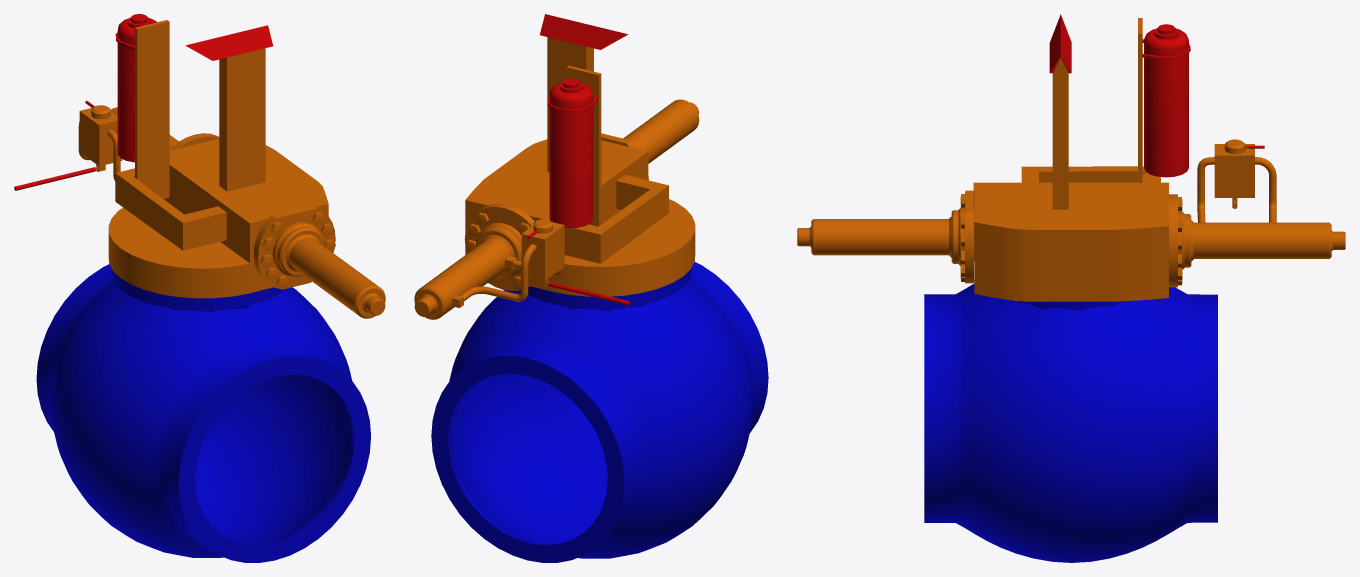
The model's file is Small_Final_V2.fbx.
The picture shows the model from 3 angles, left to right: view 1: azimuth 30°, elevation 25°; view 2: azimuth 150°, elevation 25°; view 3: azimuth 270°, elevation 25°; orthographic projection. The views are drawn at different scales.
Visible parts, largest first — view 1: Pushka.002, Cube.003; view 2: Pushka.002, Cube.003; view 3: Pushka.002.
Boxes of the visible parts, box(x1,y1,x2,y2) form: Pushka.002: box(36, 14, 385, 562); Cube.003: box(14, 164, 105, 190); Pushka.002: box(414, 14, 768, 562); Cube.003: box(538, 279, 630, 305); Pushka.002: box(797, 14, 1345, 562).
Size of the model in its own units: 54.04 by 101 by 95.9.
